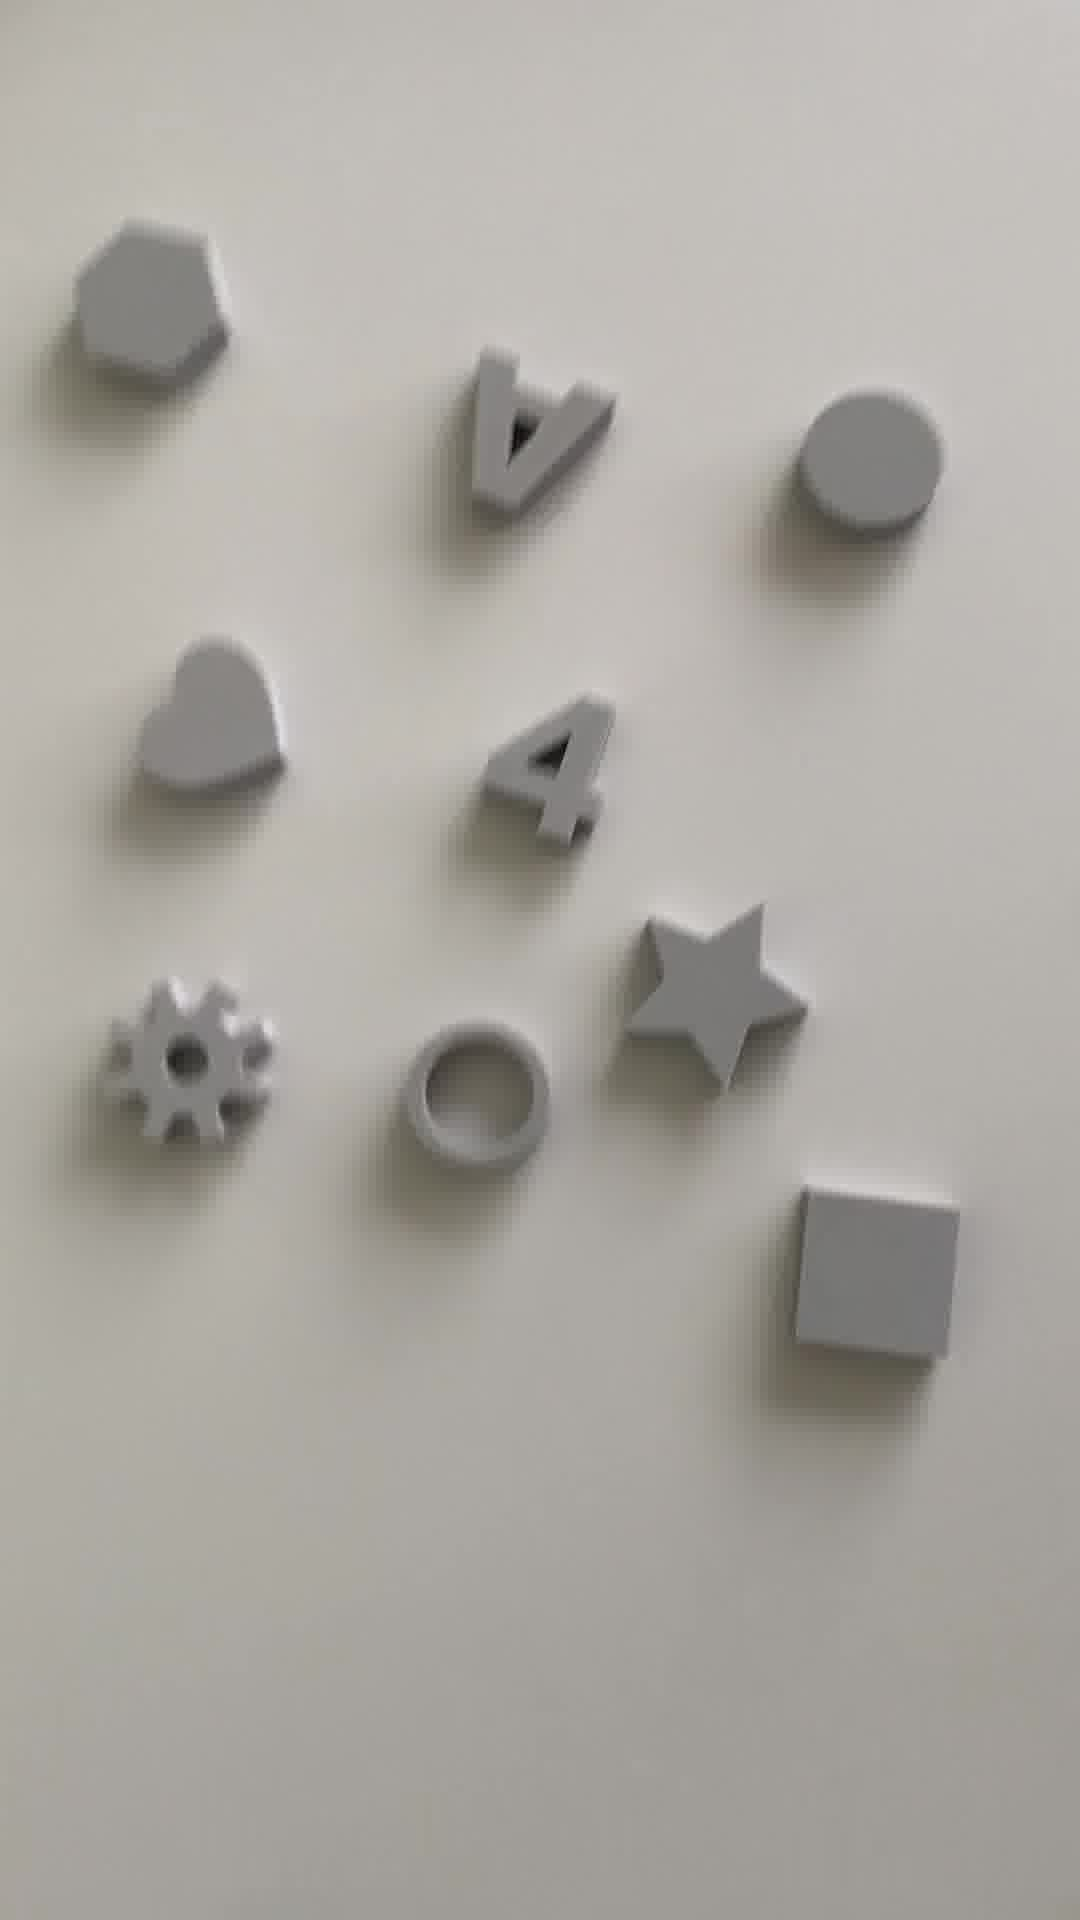Gray A-letter: (463, 345, 603, 520)
Gray circle: (785, 386, 945, 538)
Gray four: (467, 694, 615, 855)
Gray gear: (105, 973, 287, 1146)
Gray heart: (128, 640, 287, 808)
Gray hexagon: (61, 220, 239, 406)
Gray ring: (396, 1021, 549, 1183)
Gray square: (767, 1183, 971, 1379)
Gray star: (615, 905, 810, 1101)
